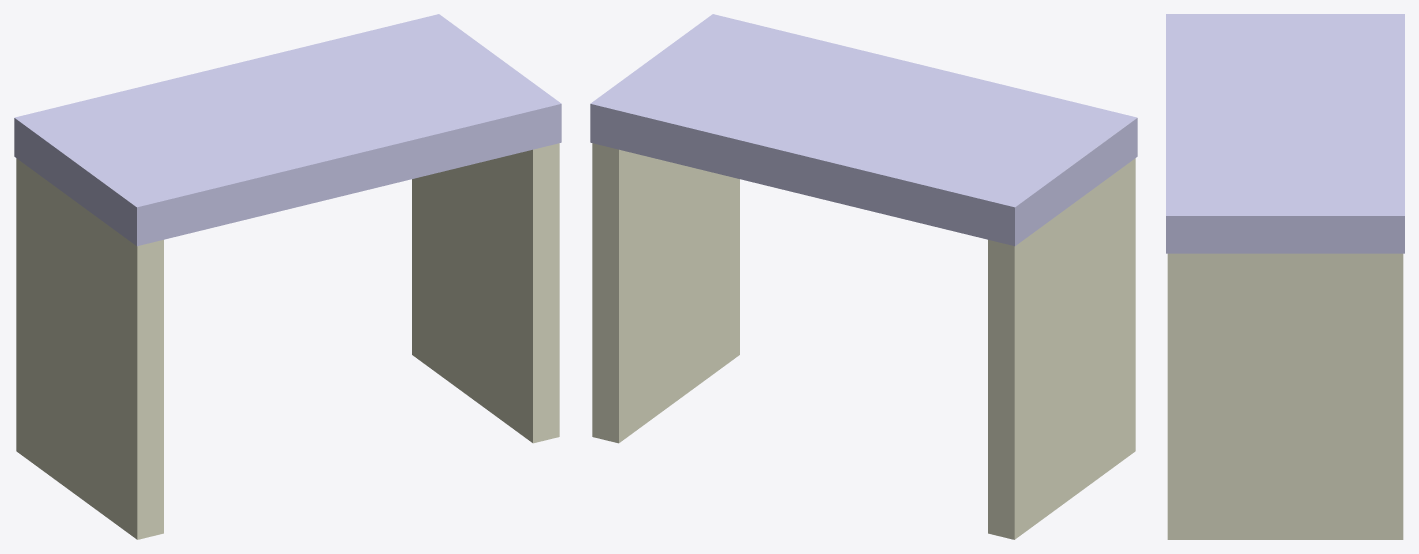
Rendered from desk2_purple.glb.
3 renders of one model, left to right at view 1: azimuth 30°, elevation 25°; view 2: azimuth 150°, elevation 25°; view 3: azimuth 270°, elevation 25°, orthographic. The views are drawn at different scales.
Visible parts, largest first — view 1: Box002; view 2: Box002; view 3: Box002.
Boxes of the visible parts, <box> form: Box002: <box>14,14,561,539</box>; Box002: <box>590,14,1137,539</box>; Box002: <box>1166,14,1404,539</box>.
Size of the model in its own units: 0.16 by 0.12 by 0.08.
1 material, 1 textured.
